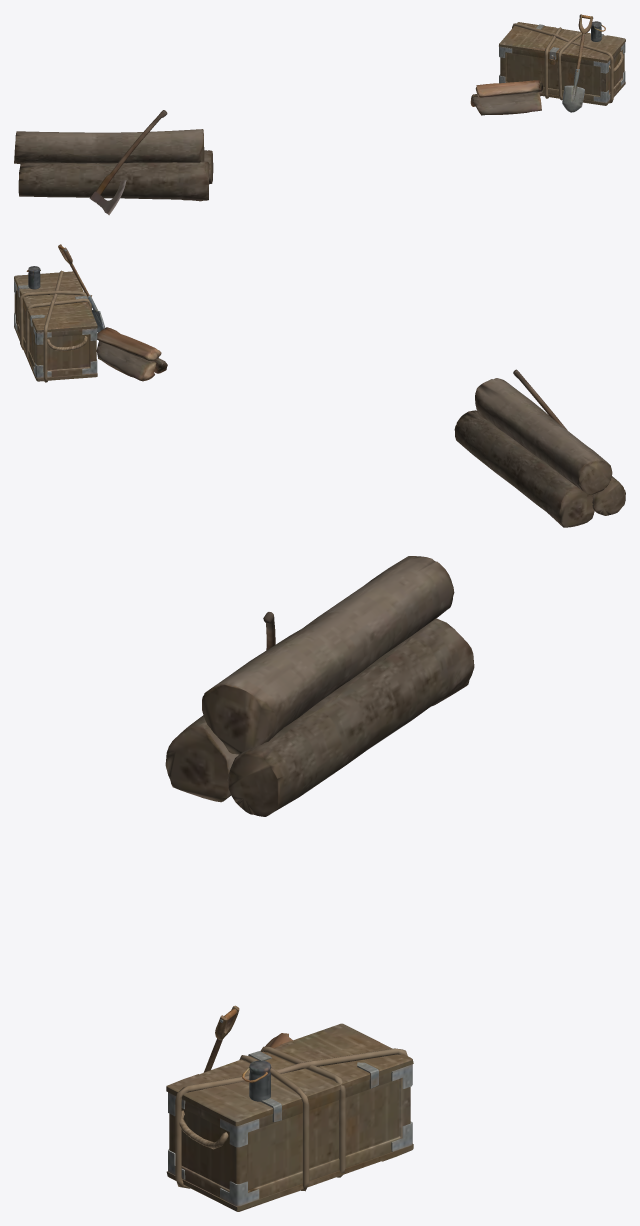
The model's file is SM_Loggingcamp_Acce_dde7d3.glb.
3 views of the same model, one above another, from view 1: azimuth 30°, elevation 25°; view 2: azimuth 150°, elevation 25°; view 3: azimuth 270°, elevation 25° (orthographic). The views are drawn at different scales.
Size of the model in its own units: 5.9 by 0.8773 by 1.37.
1 material, 1 textured.
